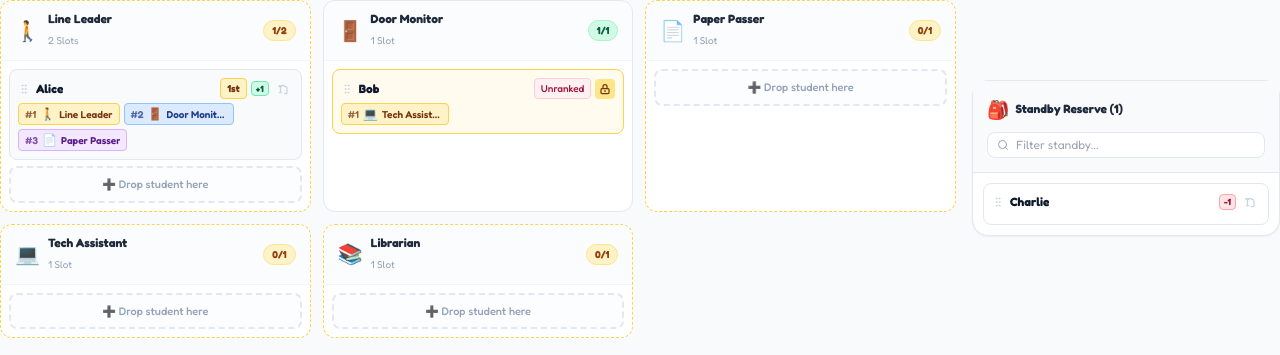
Test: AssignmentBoard Tooltip › shows tooltip with job history for Bob when hovering his card
The width and height of the screenshot is (1280, 355).
Expected: the text "Bob" is shown, x1=359 y1=80 x2=379 y2=96
# Hover over the card to trigger tooltip
Hover over the text "Bob" at [478, 102], box x1=332 y1=69 x2=624 y2=134
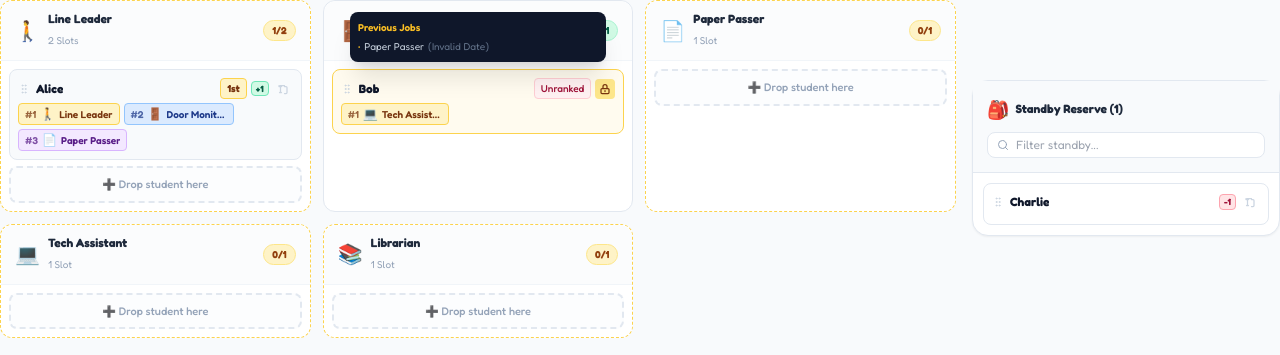
Now the element showing "Previous Jobs • Paper Passer (Invalid Date)" is shown, box x1=350 y1=12 x2=606 y2=62
